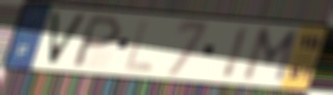7: (167, 18, 213, 79)
I: (219, 24, 252, 82)
L: (122, 18, 157, 74)
M: (239, 26, 302, 87)
P: (68, 13, 125, 70)
V: (47, 10, 90, 68)
